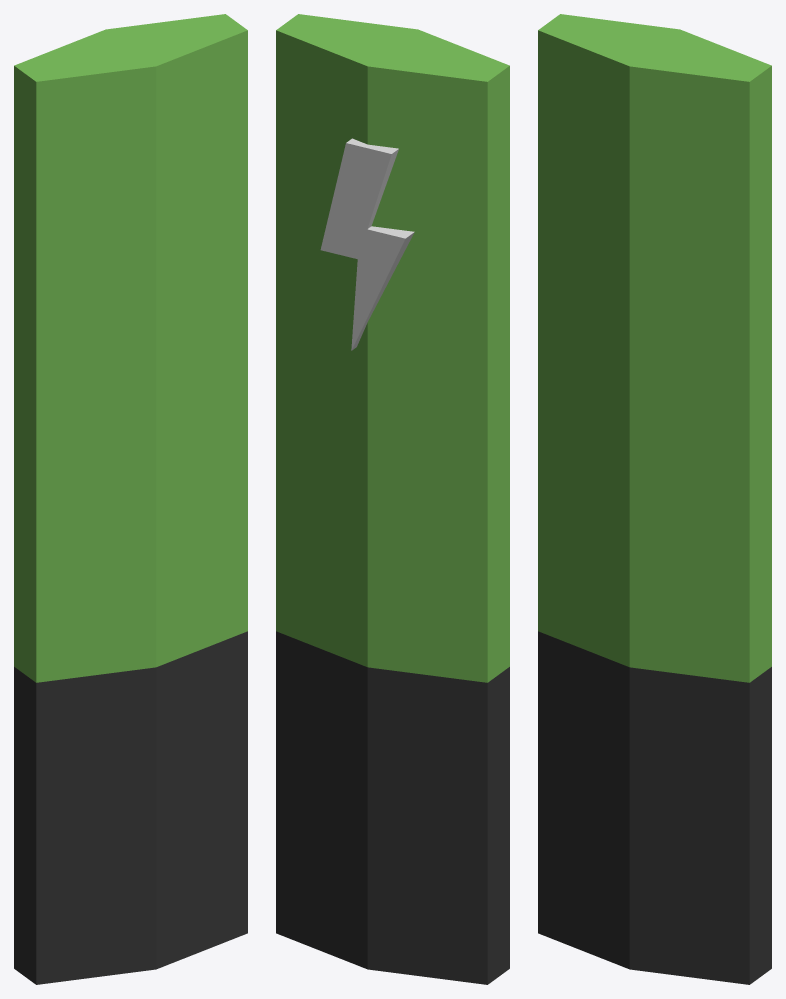
File: StationBoard.fbx
3 views of the same model, side by side, from view 1: azimuth 30°, elevation 25°; view 2: azimuth 150°, elevation 25°; view 3: azimuth 330°, elevation 25° (orthographic).
Visible parts, largest first — view 1: Cube.002; view 2: Cube.002; view 3: Cube.002.
Boxes of the visible parts, left/top/right/bottom form: Cube.002: left=14, top=14, right=247, bottom=984; Cube.002: left=276, top=14, right=509, bottom=984; Cube.002: left=538, top=14, right=771, bottom=984.
Size of the model in its own units: 173 by 704 by 76.73.
